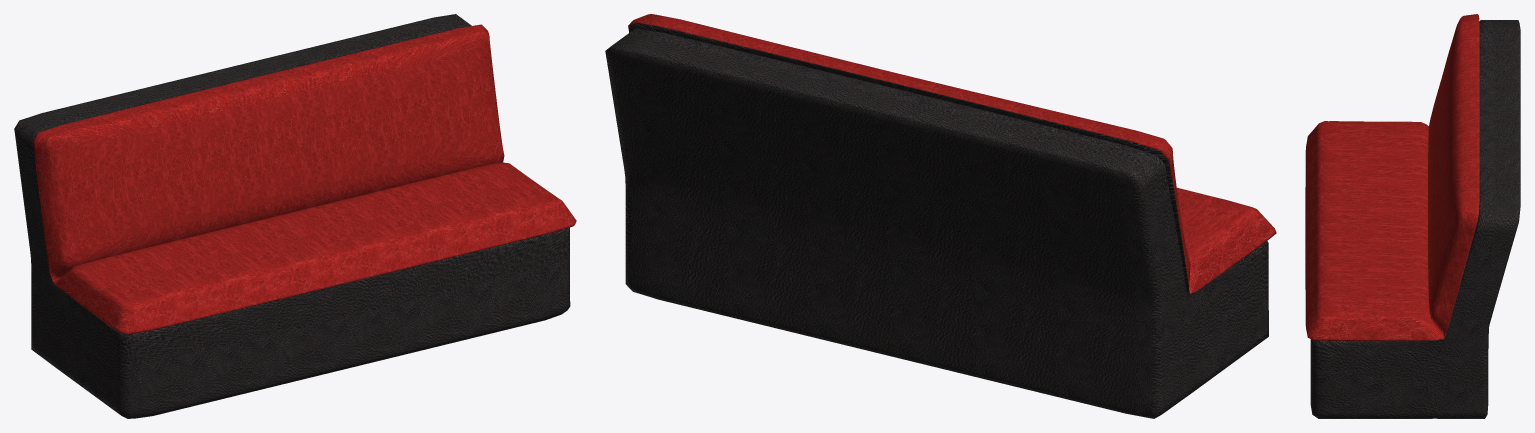
Rendered from Couch.fbx.
3 views of the same model, side by side, from view 1: azimuth 30°, elevation 25°; view 2: azimuth 150°, elevation 25°; view 3: azimuth 270°, elevation 25° (orthographic). The views are drawn at different scales.
Parts seen in each view (by area): view 1: sofa; view 2: sofa; view 3: sofa.
Part boxes in pixels (x1,y1,x2,y2): sofa: (14, 14, 576, 418); sofa: (605, 14, 1276, 418); sofa: (1305, 14, 1520, 418).
Bounding box in the file's own units: 3.06 × 1.45 × 1.35.
